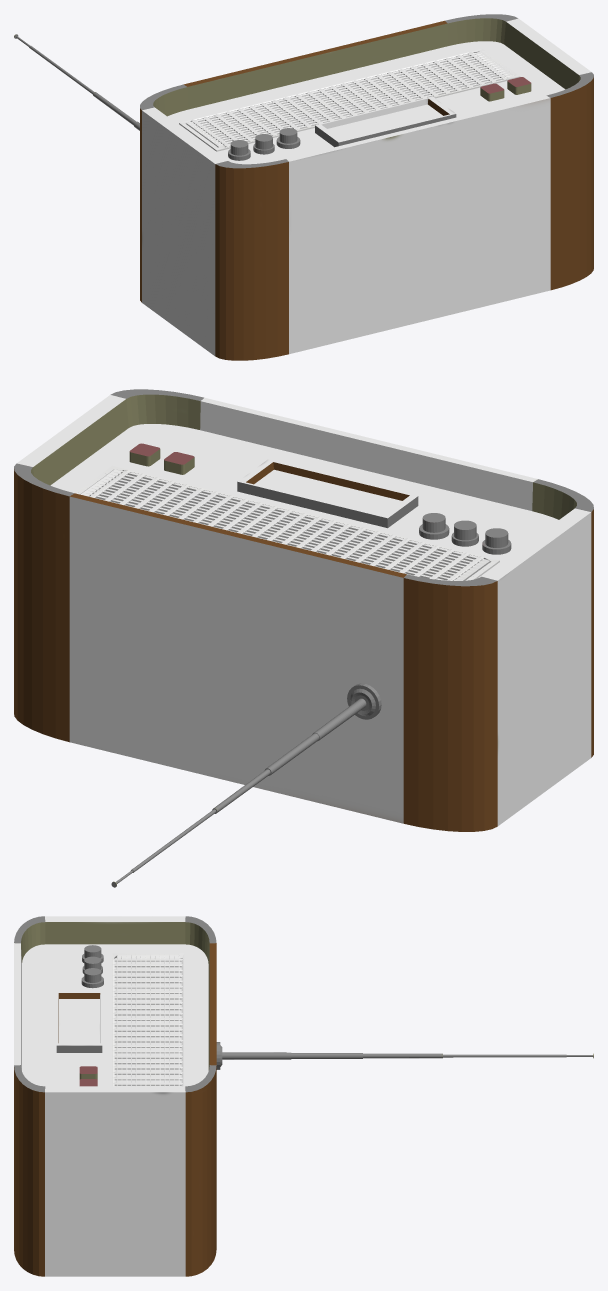
File: Radio.fbx
3 views of the same model, one above another, from view 1: azimuth 30°, elevation 25°; view 2: azimuth 150°, elevation 25°; view 3: azimuth 270°, elevation 25° (orthographic). The views are drawn at different scales.
Parts seen in each view (by area): view 1: Radio; view 2: Radio; view 3: Radio.
Boxes of the visible parts, bbox=[...] form: Radio: bbox=[14, 14, 593, 360]; Radio: bbox=[14, 389, 593, 887]; Radio: bbox=[14, 916, 593, 1276].
Bounding box in the file's own units: 204 × 99.47 × 283.
